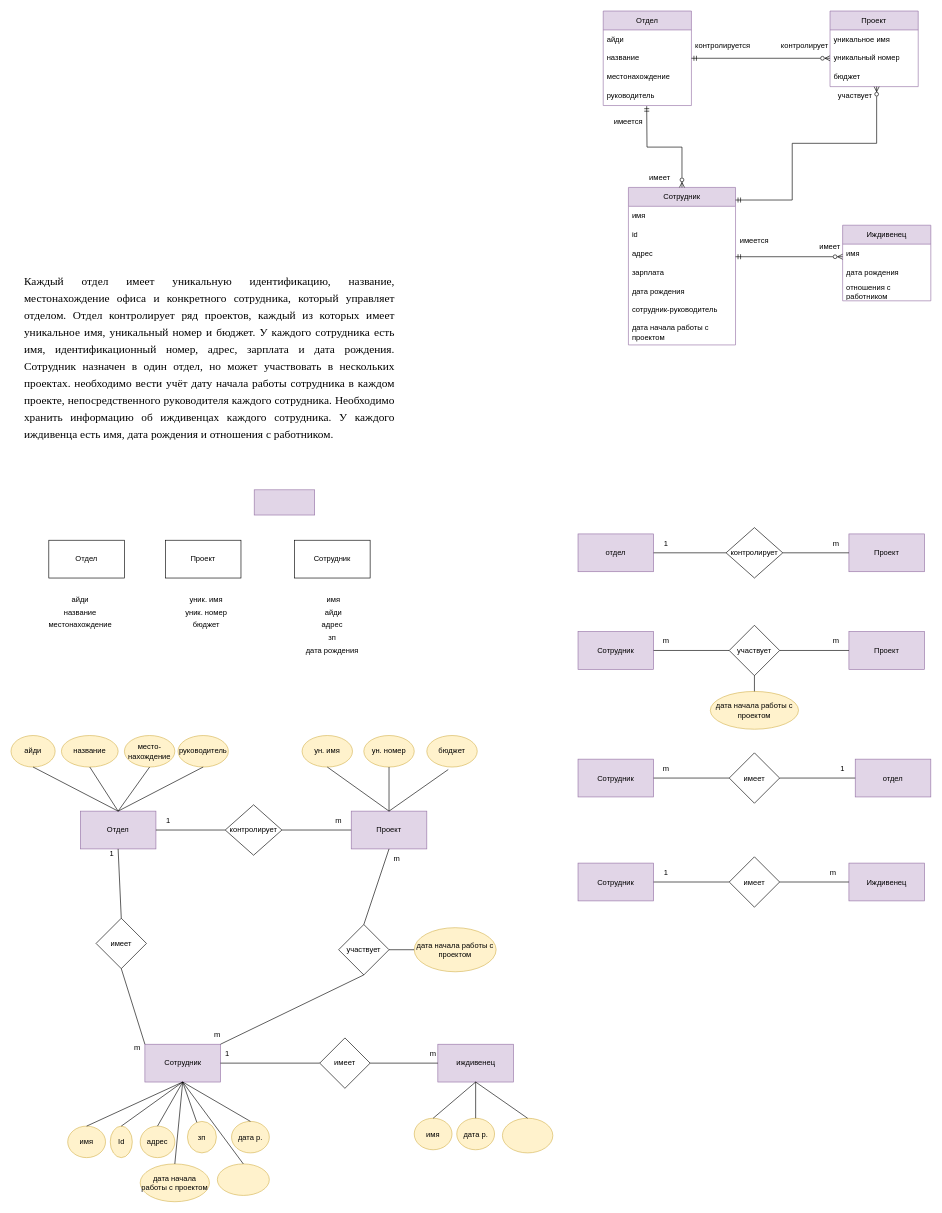
Image size: 942x1213. Some labels were removed from this diagram. The centre of each missing label's shape, as x and y in pixels:
Компания: the point at 284,502
отнош-я с работником: the point at 527,1135
сотрудник- руководитель: the point at 243,1179
